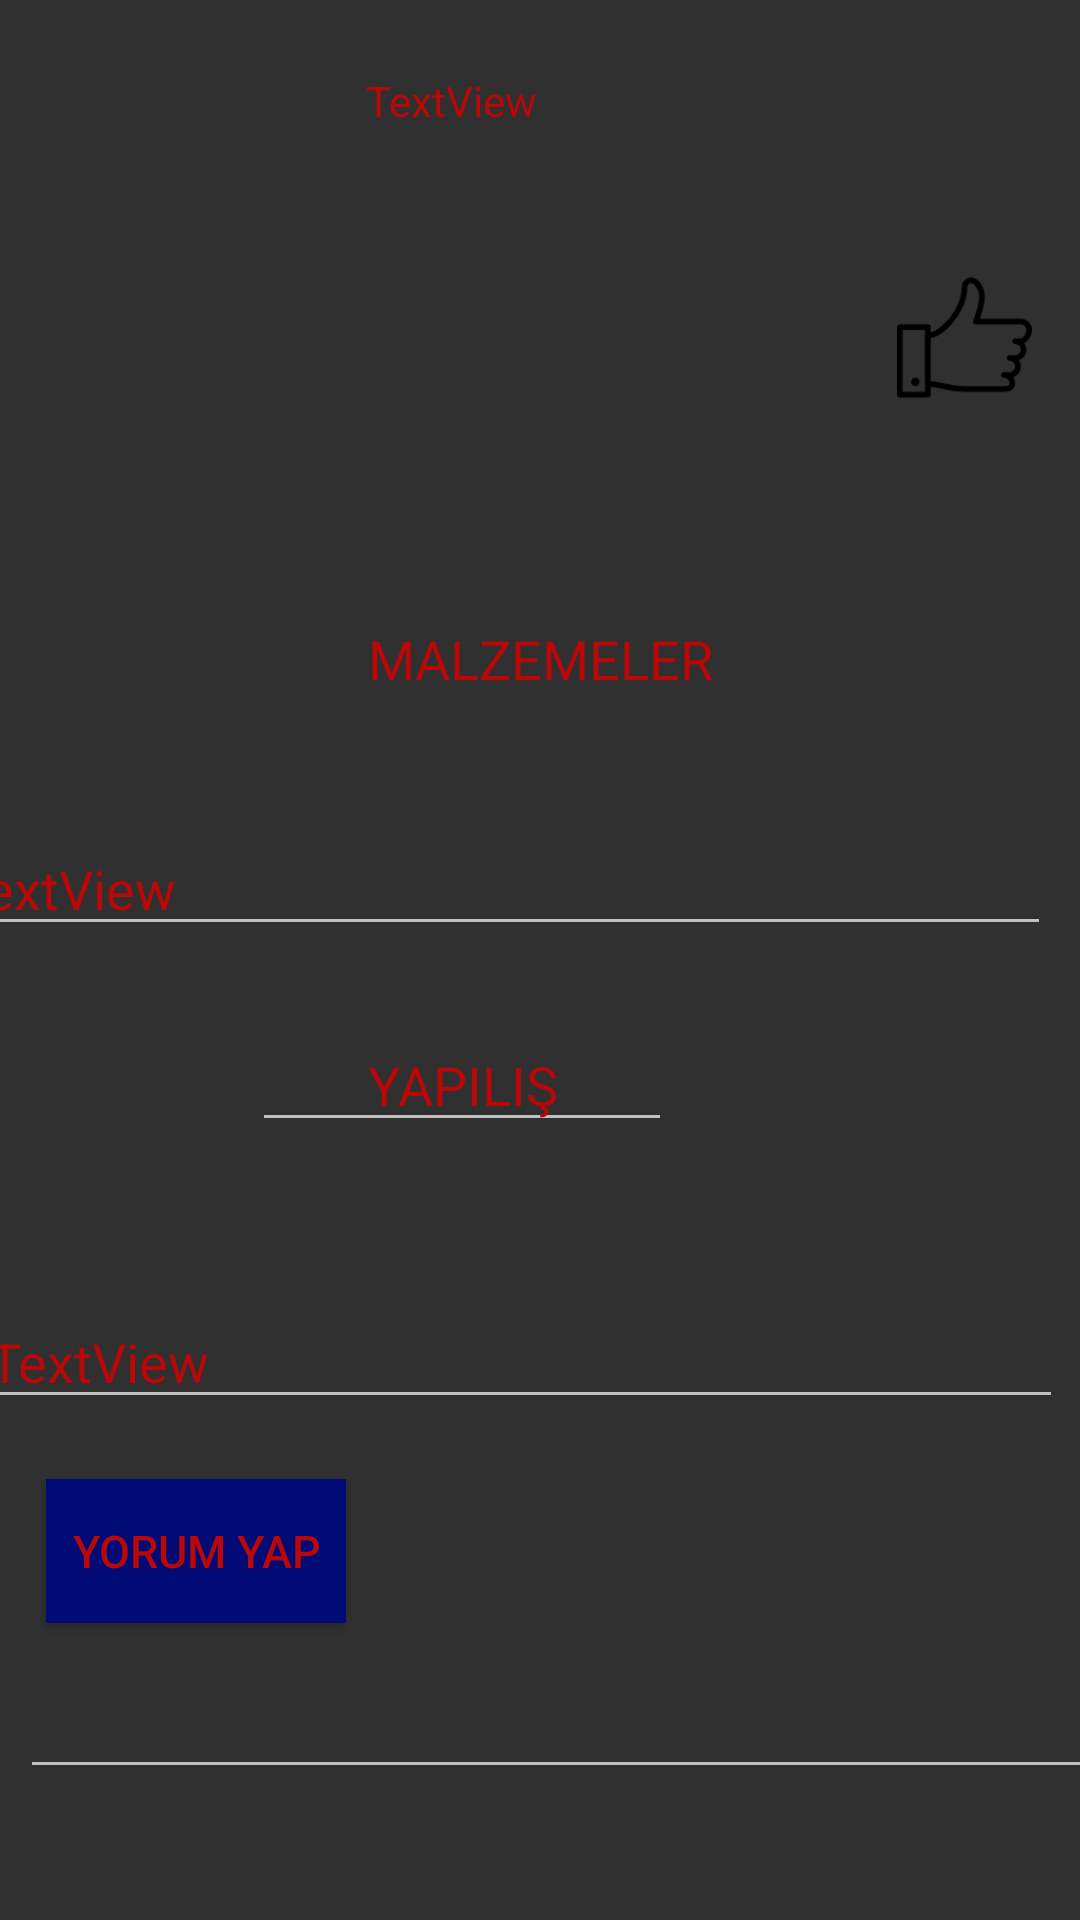

Screen size 1080×1920. Icon name, then its box in pixels as (x1, y1, x2, y2):
like: (897, 278, 1032, 398)
